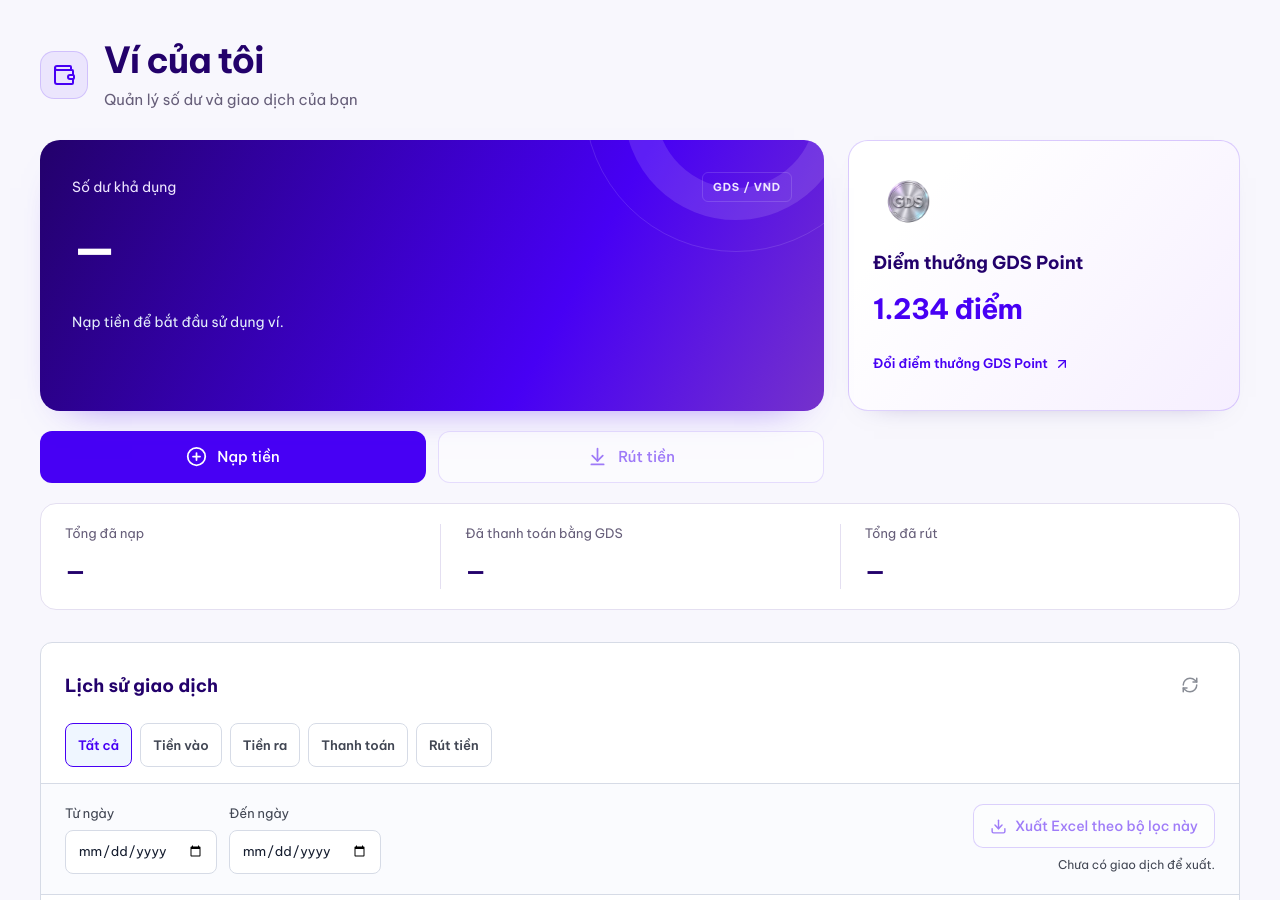
Test case: PAYW-04D wallet QR presentation › explains an empty wallet and still allows requesting a QR without a redundant topup link
Click the button "Nạp tiền".
click(233, 457)  # box [40, 431, 426, 483]
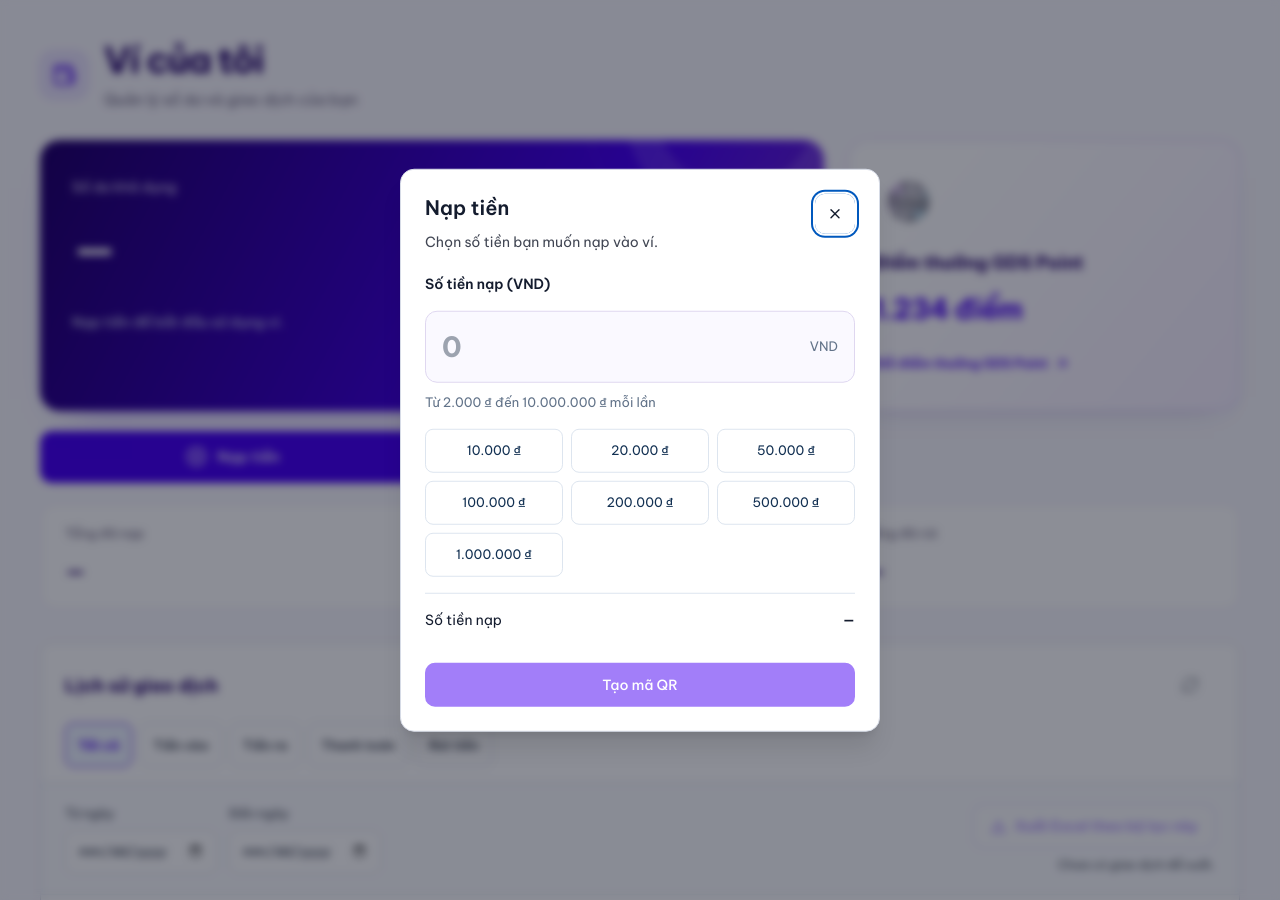
Type "100000" into the field.
click(622, 347); type("100000")  # box [442, 326, 802, 368]
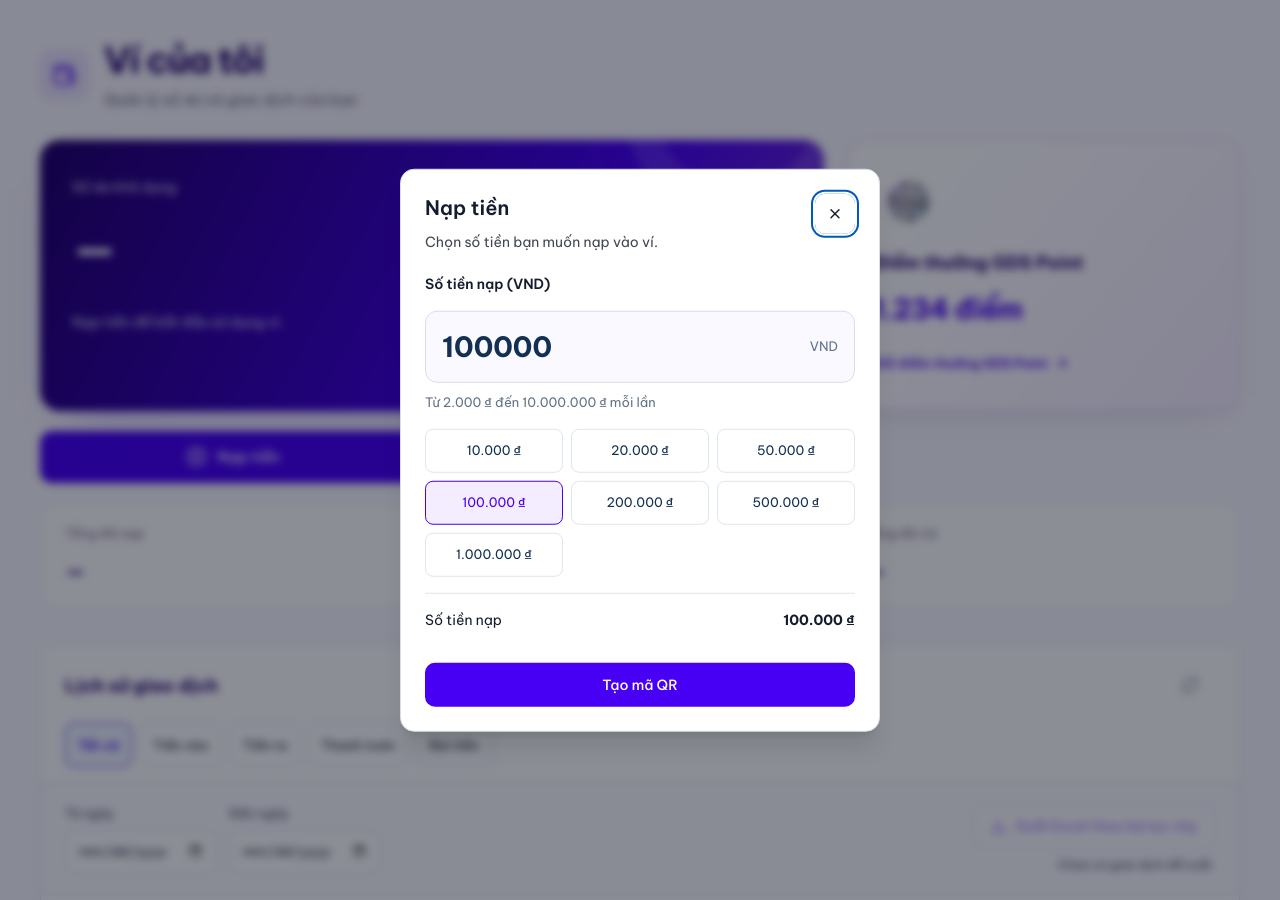
Check: the text "Nạp tiền để bắt đầu sử dụng ví." is shown, box [72, 312, 284, 333]
Check: the button "Tạo mã QR" is enabled, box [425, 662, 855, 706]
